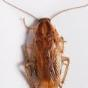cockroach: (29, 15, 61, 88)
